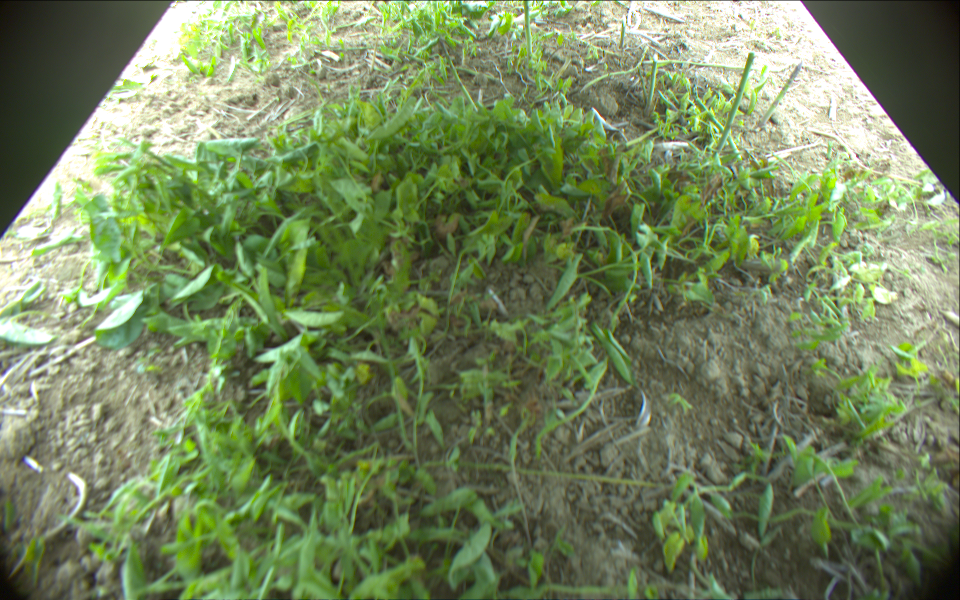aspa: (712, 52, 754, 155), (762, 63, 802, 127), (638, 55, 758, 68), (647, 56, 659, 113), (523, 1, 534, 62), (620, 22, 628, 51)
